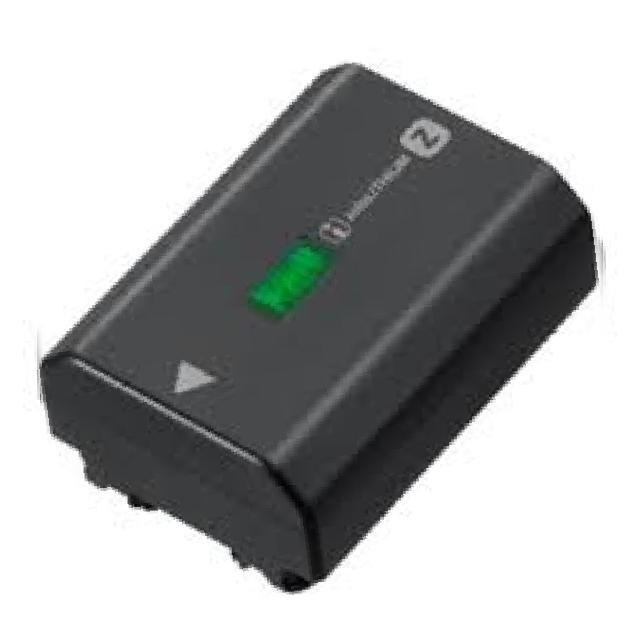Battery: (23, 39, 611, 606)
